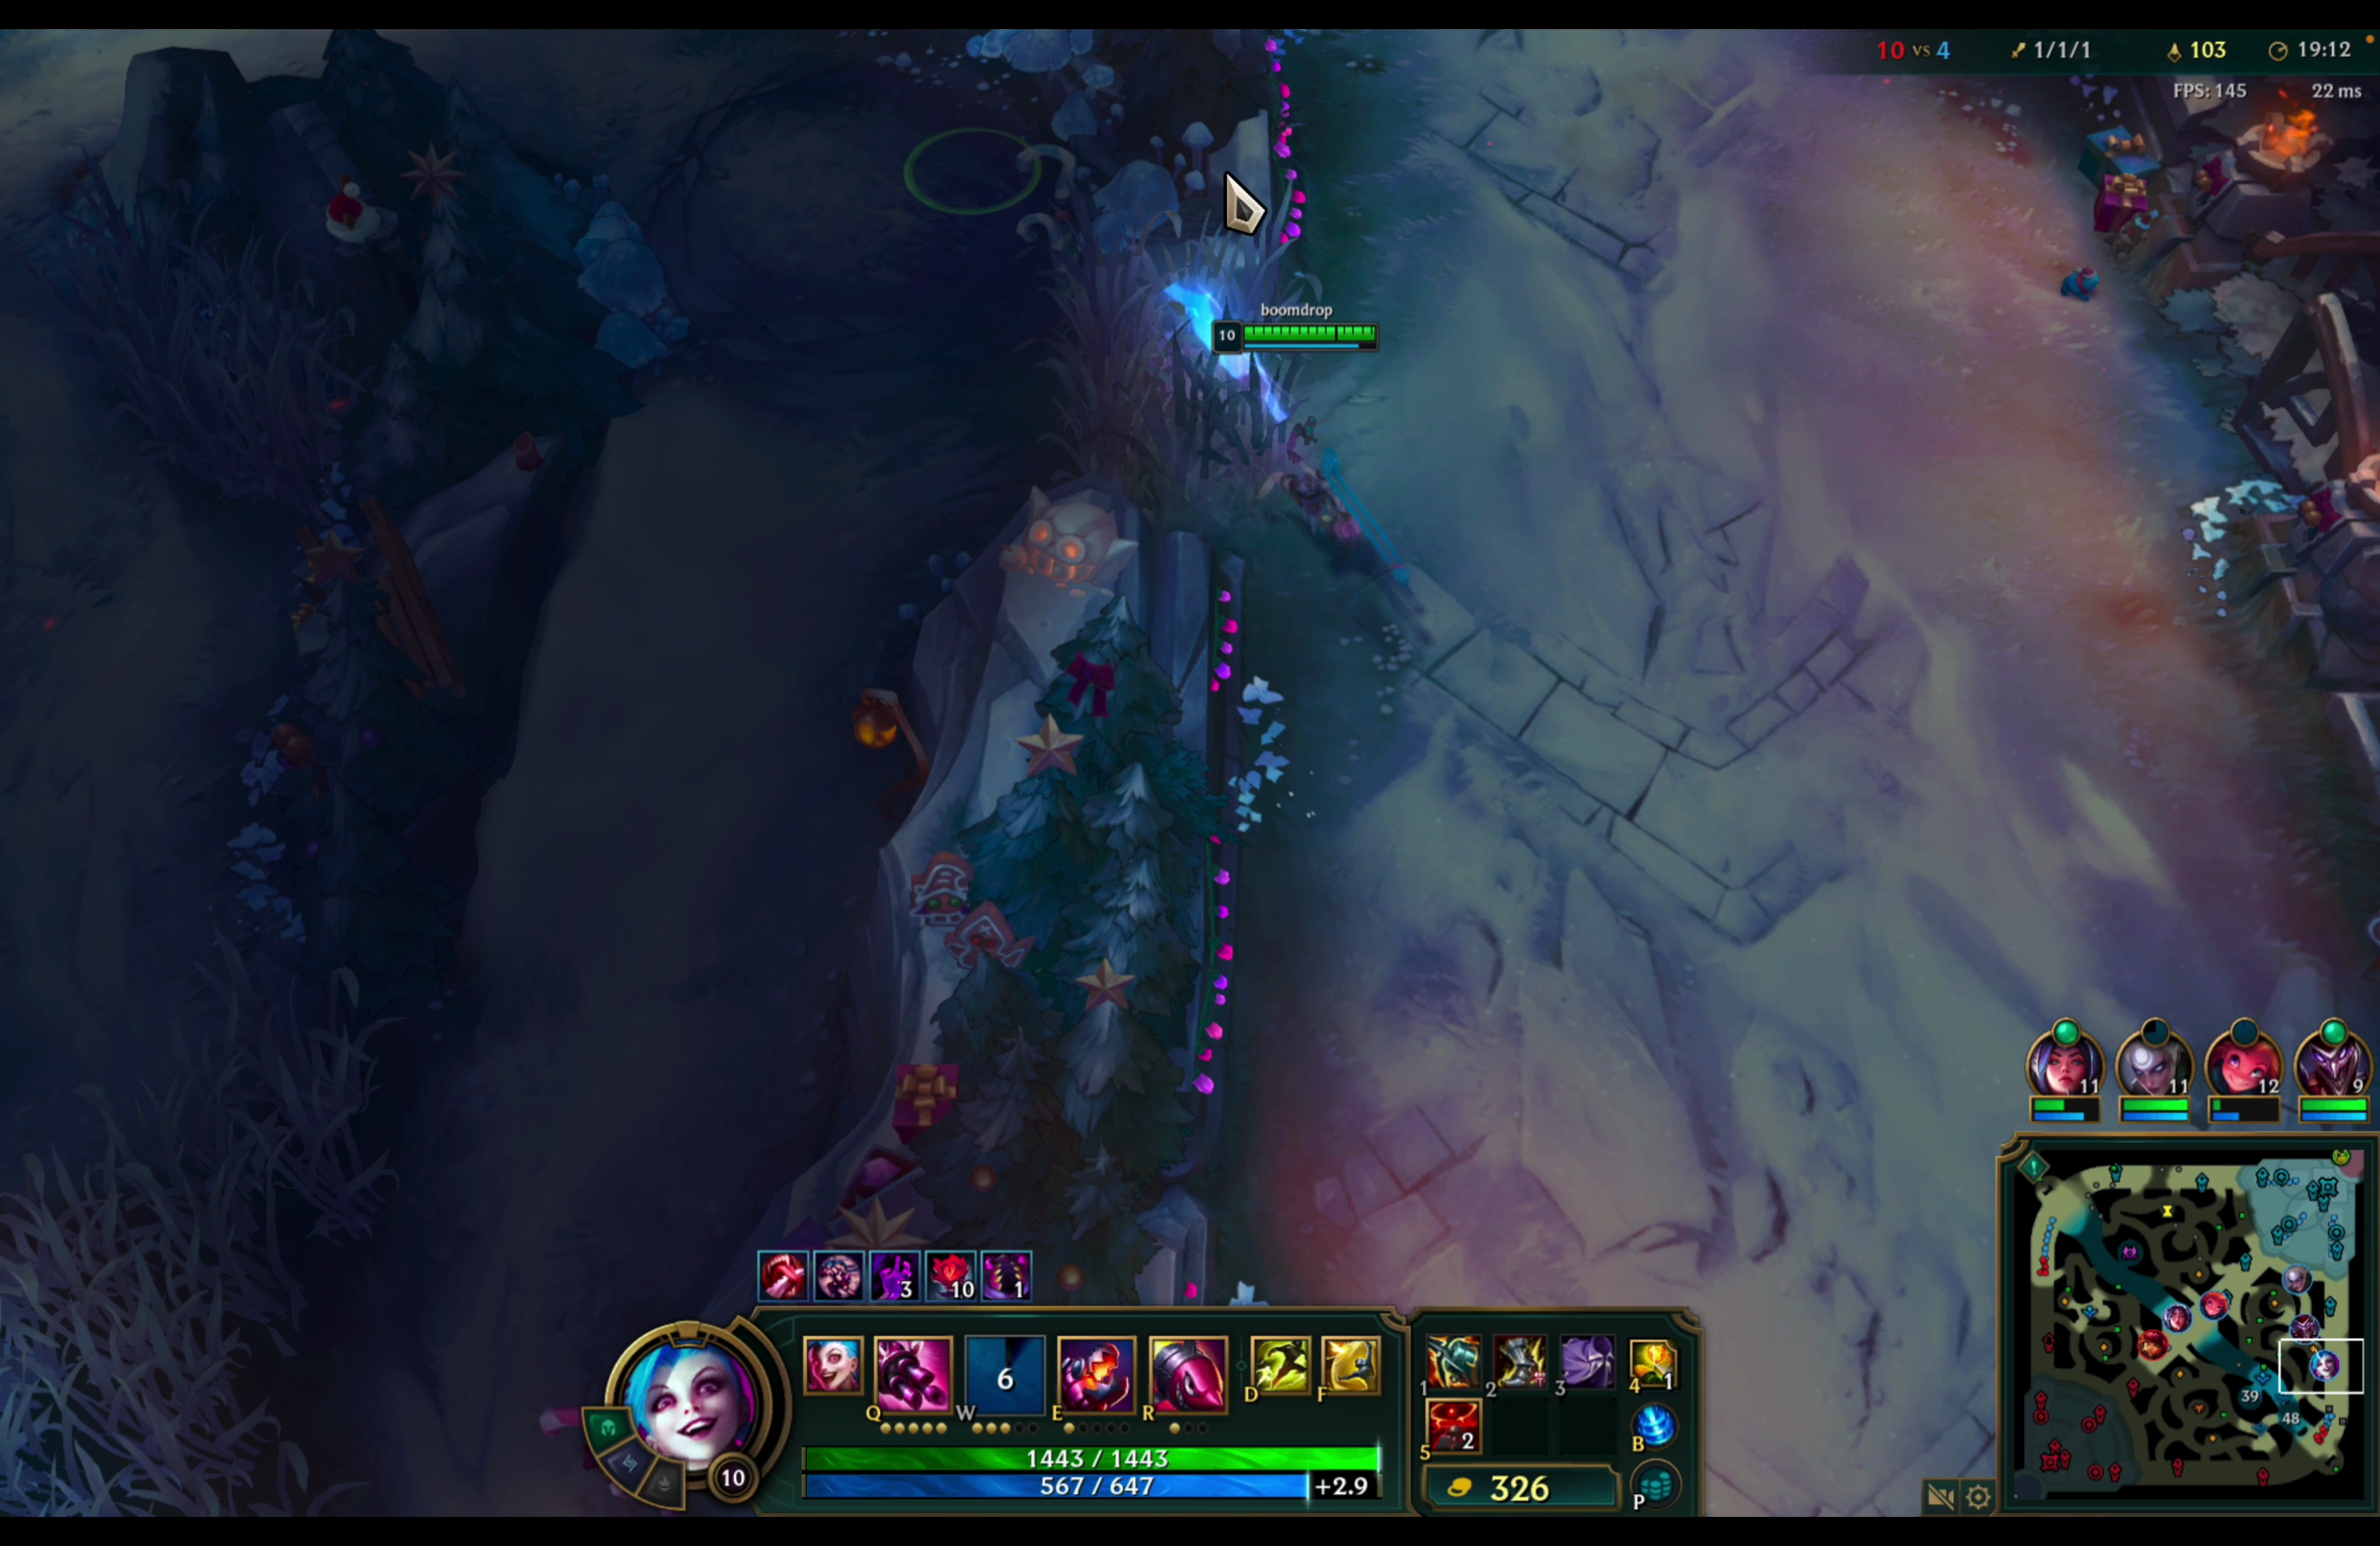JINX_W_PROJECTILE: (1155, 262, 1405, 573)
